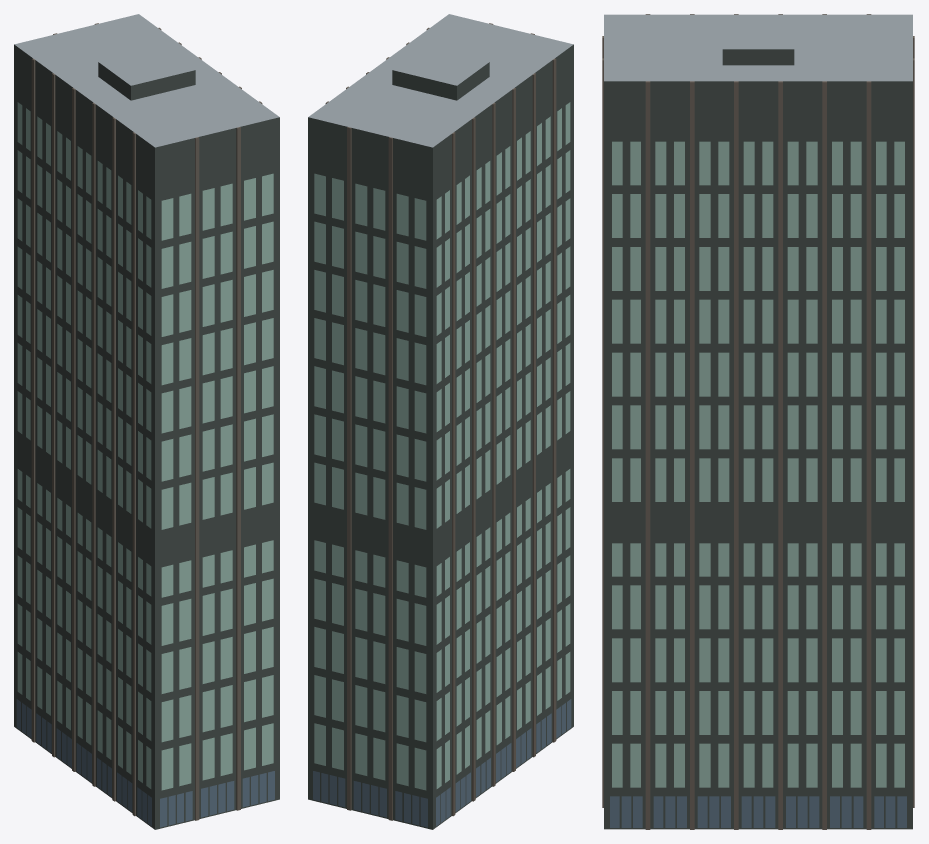
File: cle-erieview-tower.glb
The picture shows the model from 3 angles, left to right: view 1: azimuth 30°, elevation 25°; view 2: azimuth 150°, elevation 25°; view 3: azimuth 270°, elevation 25°; orthographic projection. The views are drawn at different scales.
Parts seen in each view (by area): view 1: Tower at Erieview; view 2: Tower at Erieview; view 3: Tower at Erieview.
Part boxes in pixels (box(x1,y1,x2,y2)): Tower at Erieview: box(14, 14, 279, 829); Tower at Erieview: box(308, 14, 573, 829); Tower at Erieview: box(602, 14, 914, 829).
Bounding box in the file's own units: 31.5 × 164 × 61.
